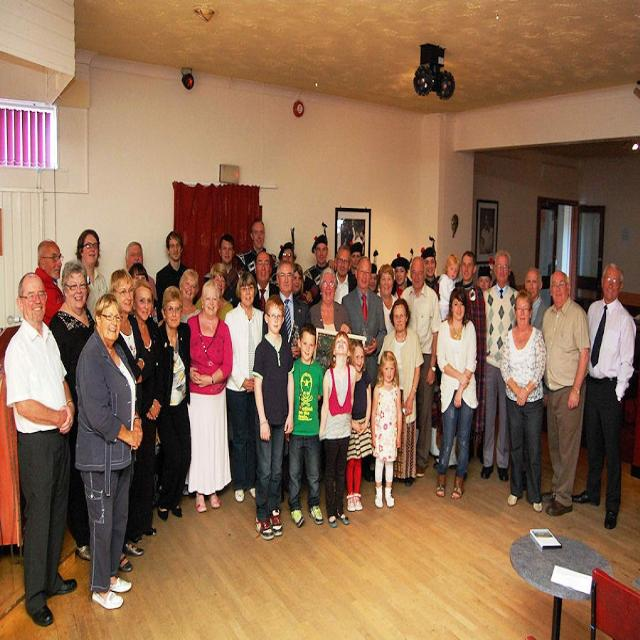body: (1, 268, 79, 630), (71, 289, 145, 612), (568, 261, 637, 534), (46, 257, 98, 562), (536, 268, 592, 519), (182, 278, 234, 516), (108, 267, 148, 574), (143, 282, 192, 524), (250, 292, 296, 543), (498, 286, 548, 515), (341, 256, 389, 482), (433, 284, 481, 502), (479, 249, 522, 482), (223, 270, 265, 505), (399, 255, 443, 479), (375, 294, 425, 488), (131, 276, 165, 546), (283, 321, 325, 530), (316, 328, 358, 529), (455, 247, 488, 463), (368, 348, 404, 511), (415, 245, 442, 460), (344, 338, 374, 513), (262, 259, 312, 361), (154, 230, 198, 328), (72, 227, 109, 323), (233, 218, 280, 287), (208, 232, 249, 310), (308, 265, 352, 336), (34, 239, 68, 330), (302, 234, 338, 307), (125, 240, 158, 319), (194, 262, 235, 324), (128, 260, 164, 329), (251, 250, 280, 314), (438, 253, 463, 326), (524, 266, 552, 331), (375, 262, 399, 335), (177, 268, 201, 324), (289, 260, 314, 310), (338, 218, 366, 256), (346, 241, 365, 296), (390, 256, 412, 299), (477, 212, 497, 256), (476, 262, 495, 294), (276, 240, 298, 265), (368, 262, 378, 294)
